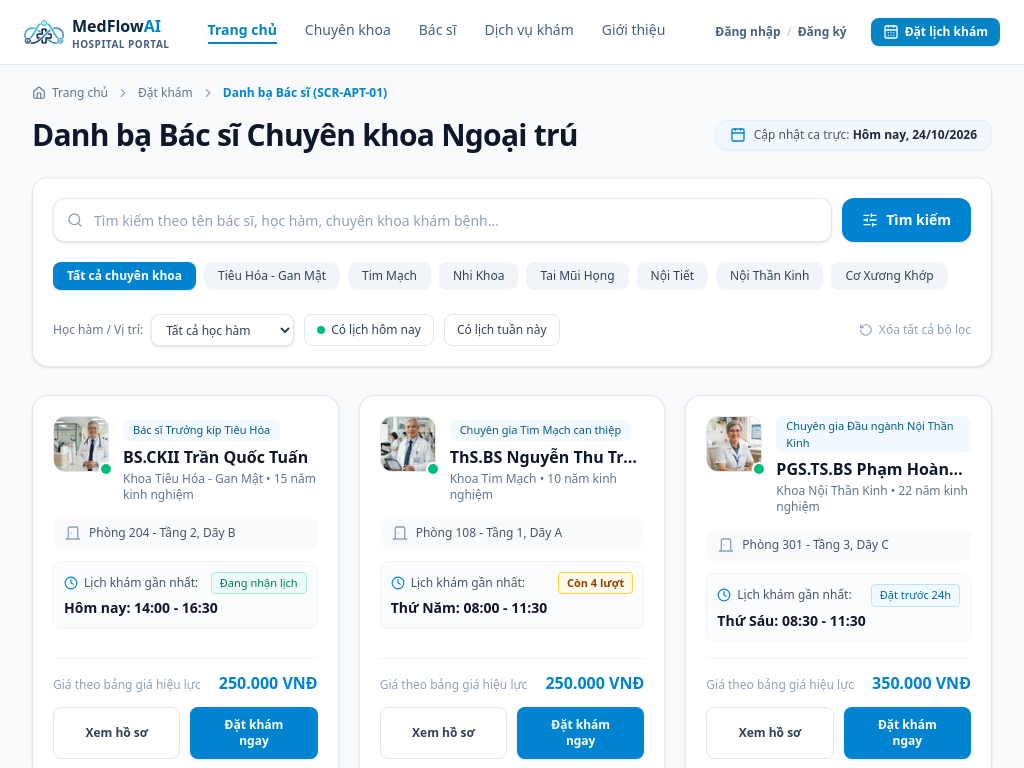
Scenario: DoctorSearchPage (SCR-APT-01) › filters doctors when clicking a specialty tab
Expected: the heading "BS.CKII Trần Quốc Tuấn" is shown, [123,444,318,468]
Click the button "Tim Mạch" at (389,276), box [348,262,431,290]
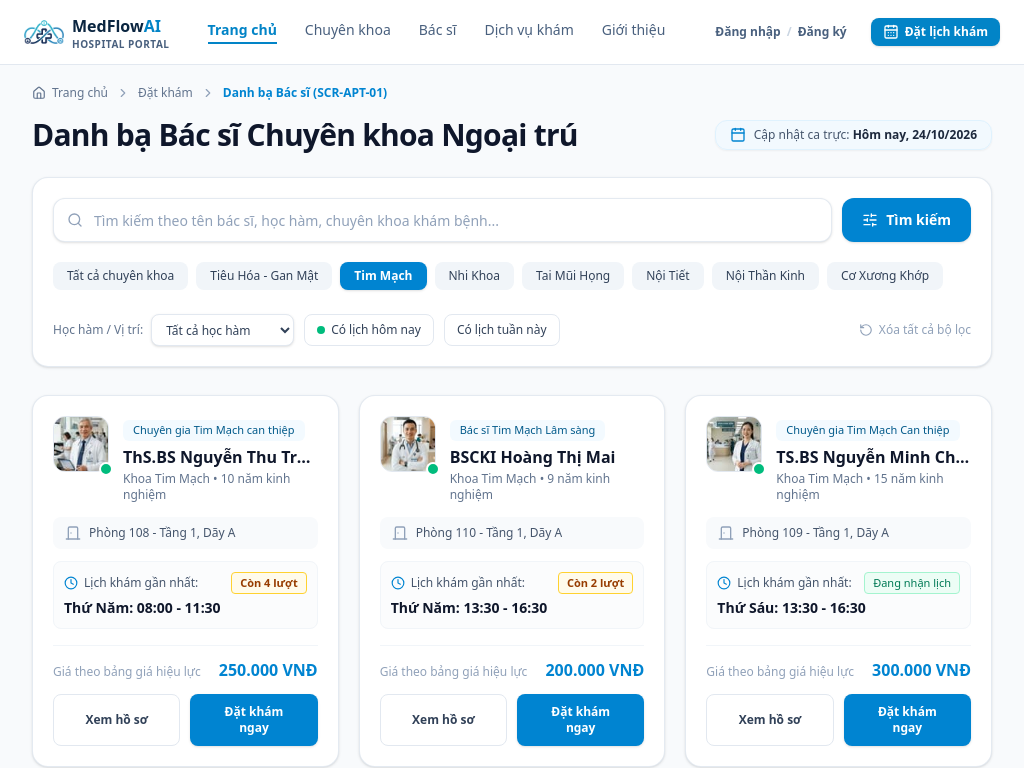
Expected: the heading "ThS.BS Nguyễn Thu Trang" is shown, [123,444,318,468]
Now the heading "BS.CKII Trần Quốc Tuấn" is gone
